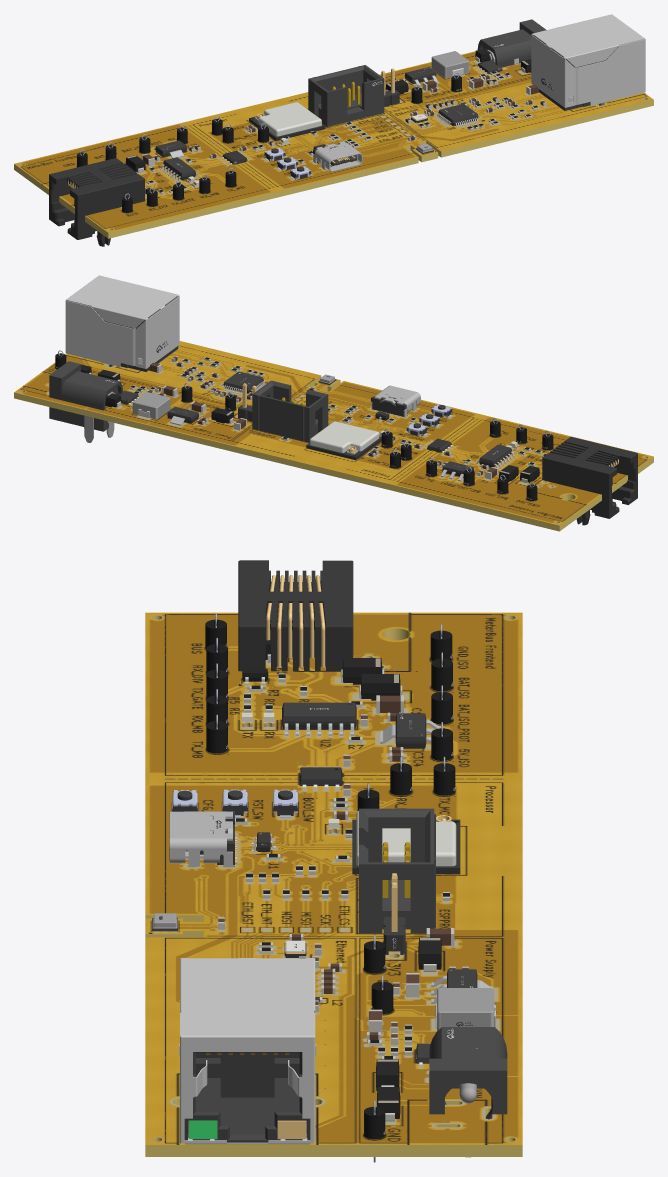
The model's file is eveningstar-yellow.glb.
3 views of the same model, one above another, from view 1: azimuth 30°, elevation 25°; view 2: azimuth 150°, elevation 25°; view 3: azimuth 270°, elevation 25° (orthographic). The views are drawn at different scales.
Parts seen in each view (by area): view 1: =>[0:1:1:54], =>[0:1:1:27], =>[0:1:1:11], =>[0:1:1:25], =>[0:1:1:3], =>[0:1:1:5], =>[0:1:1:7], =>[0:1:1:23], =>[0:1:1:31], =>[0:1:1:9]; view 2: =>[0:1:1:54], =>[0:1:1:27], =>[0:1:1:11], =>[0:1:1:25], =>[0:1:1:3], =>[0:1:1:5], =>[0:1:1:31], =>[0:1:1:7], =>[0:1:1:23], =>[0:1:1:9]; view 3: =>[0:1:1:54], =>[0:1:1:27], =>[0:1:1:11], =>[0:1:1:3], =>[0:1:1:25], =>[0:1:1:5], =>[0:1:1:31], =>[0:1:1:23], =>[0:1:1:7], =>[0:1:1:9].
Boxes of the visible parts, <box> form: =>[0:1:1:54]: <box>14,51,653,238</box>; =>[0:1:1:27]: <box>531,14,645,110</box>; =>[0:1:1:11]: <box>49,58,469,246</box>; =>[0:1:1:25]: <box>308,19,546,154</box>; =>[0:1:1:3]: <box>77,56,552,212</box>; =>[0:1:1:5]: <box>153,44,503,181</box>; =>[0:1:1:7]: <box>143,75,544,164</box>; =>[0:1:1:23]: <box>431,51,469,78</box>; =>[0:1:1:31]: <box>123,48,531,171</box>; =>[0:1:1:9]: <box>264,148,310,178</box>; =>[0:1:1:54]: <box>14,341,653,531</box>; =>[0:1:1:27]: <box>65,275,179,371</box>; =>[0:1:1:11]: <box>132,383,637,525</box>; =>[0:1:1:25]: <box>49,361,336,442</box>; =>[0:1:1:3]: <box>55,341,553,500</box>; =>[0:1:1:5]: <box>56,367,547,499</box>; =>[0:1:1:31]: <box>81,364,539,482</box>; =>[0:1:1:7]: <box>148,357,496,478</box>; =>[0:1:1:23]: <box>133,392,389,420</box>; =>[0:1:1:9]: <box>406,404,451,435</box>; =>[0:1:1:54]: <box>145,612,522,1156</box>; =>[0:1:1:27]: <box>179,958,316,1144</box>; =>[0:1:1:11]: <box>169,560,494,1138</box>; =>[0:1:1:3]: <box>205,619,472,1139</box>; =>[0:1:1:25]: <box>152,808,507,1157</box>; =>[0:1:1:5]: <box>172,643,492,1134</box>; =>[0:1:1:31]: <box>265,639,441,1118</box>; =>[0:1:1:23]: <box>251,833,495,1028</box>; =>[0:1:1:7]: <box>218,695,468,1039</box>; =>[0:1:1:9]: <box>172,789,297,817</box>.
Size of the model in its own units: 0.1477 by 0.0232 by 0.0436.
37 materials, 2 textured.
